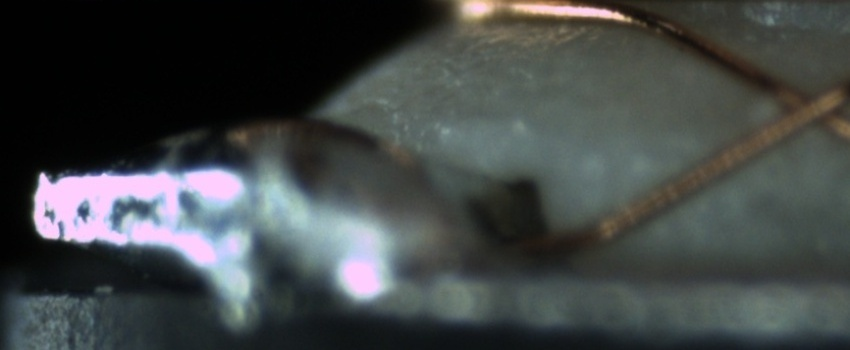CL: (759, 66, 848, 140)
